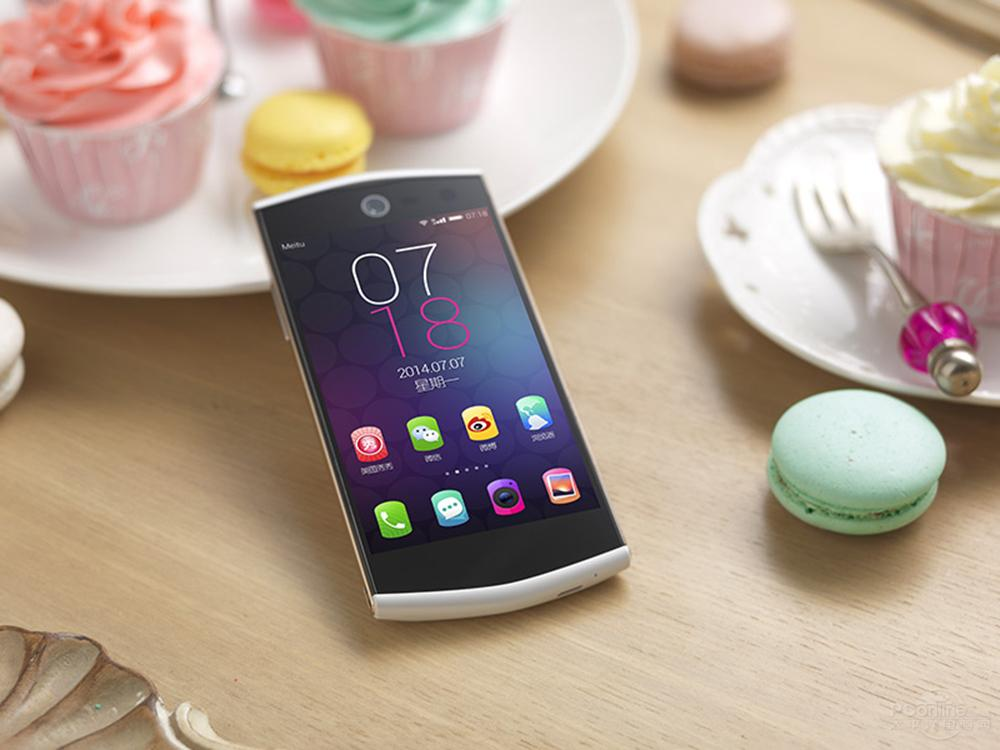phone: (259, 197, 644, 595)
